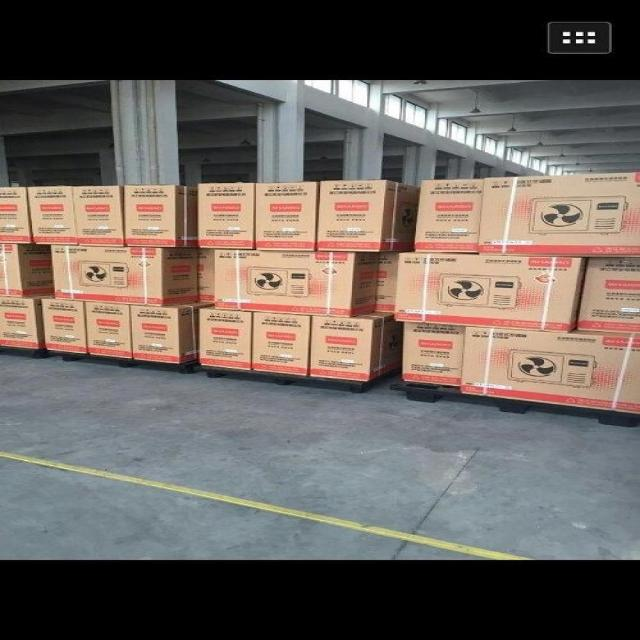box: (461, 326, 640, 415), (393, 252, 586, 333), (480, 172, 640, 257), (214, 250, 378, 317), (51, 245, 198, 306), (317, 179, 420, 252), (310, 312, 403, 380), (131, 301, 216, 363), (416, 179, 484, 253), (577, 258, 640, 333), (124, 184, 197, 247), (257, 181, 320, 251), (402, 322, 463, 386), (198, 183, 256, 249), (253, 312, 310, 376), (73, 185, 125, 247), (201, 307, 252, 370), (27, 186, 77, 245), (0, 244, 54, 297), (0, 294, 52, 348), (84, 302, 132, 359), (45, 299, 87, 353), (0, 187, 35, 243), (376, 253, 398, 312), (200, 250, 214, 302)
